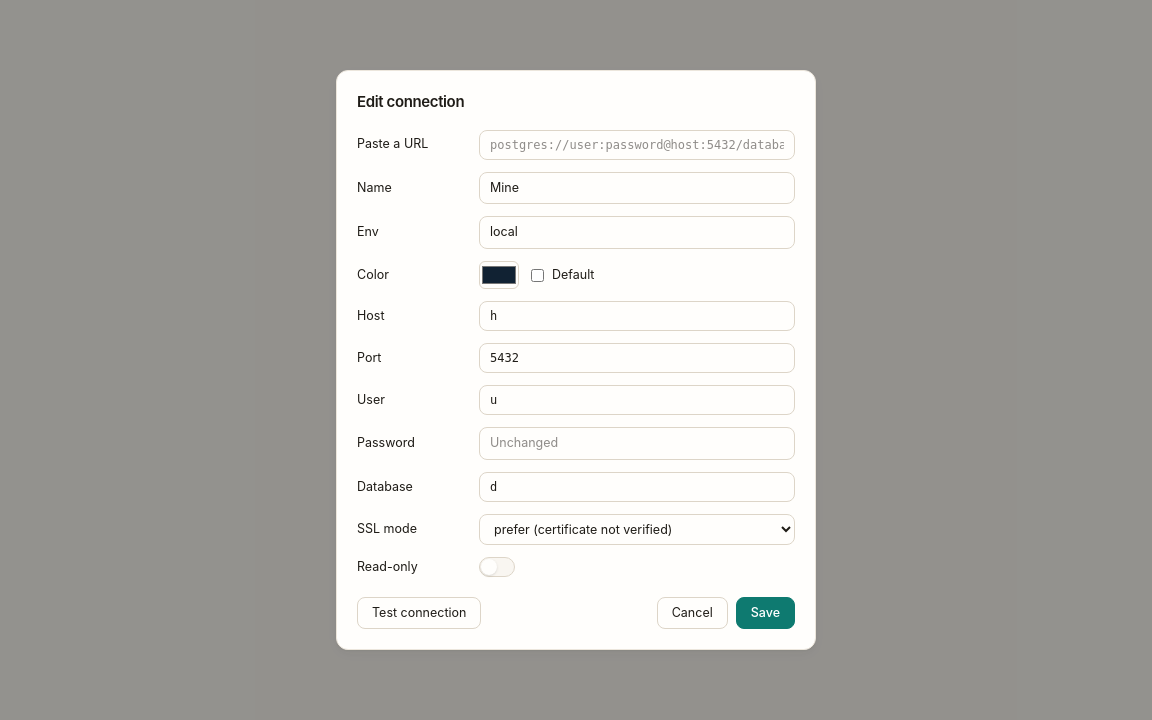
it: ConnectionDialog › Test connection shows Connected
Click the button "Test connection". click: coordinates (419, 613)
box: [357, 597, 481, 629]
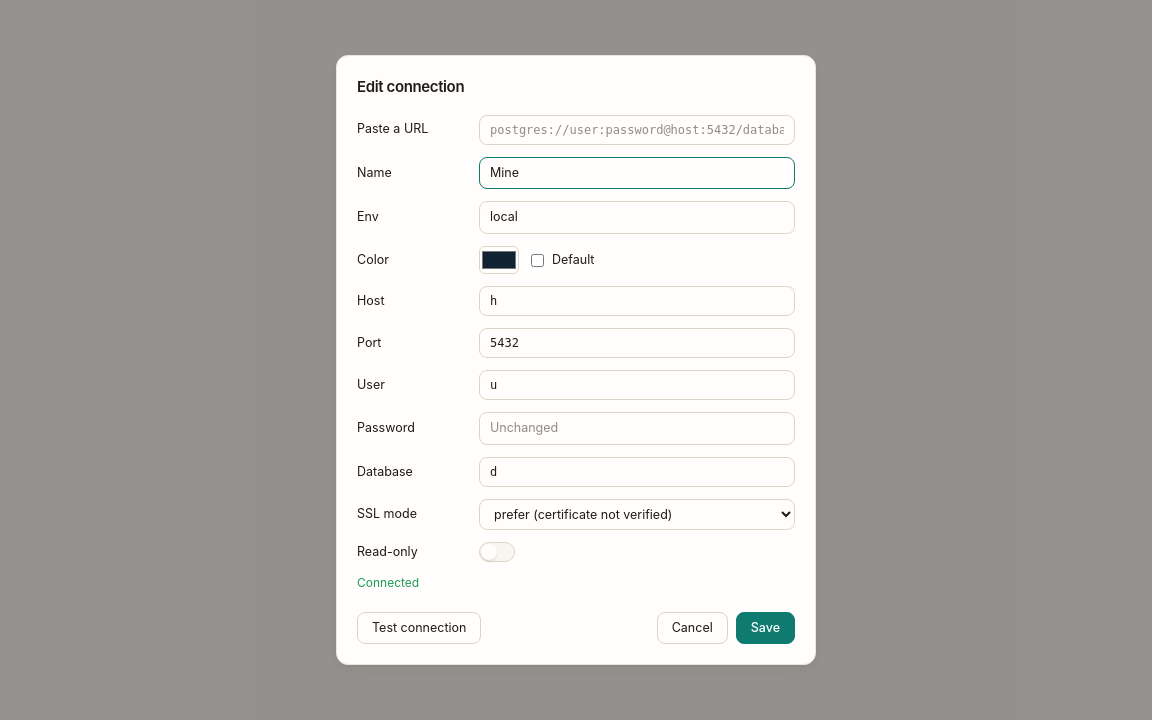
Now the message with test id "test-result" reads "Connected", box [357, 575, 419, 590]
